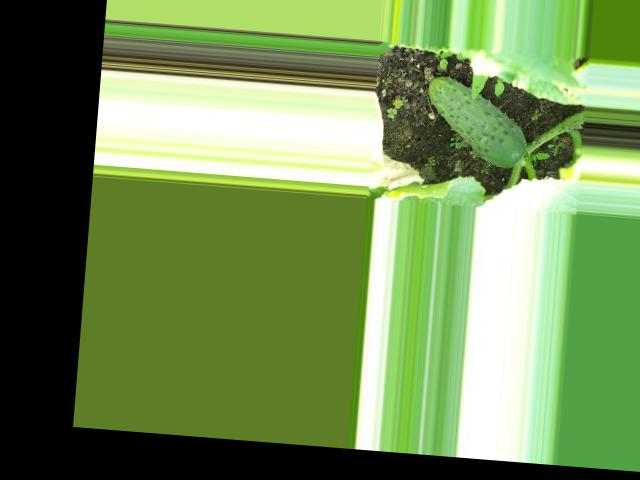cucumber: (422, 75, 533, 169)
